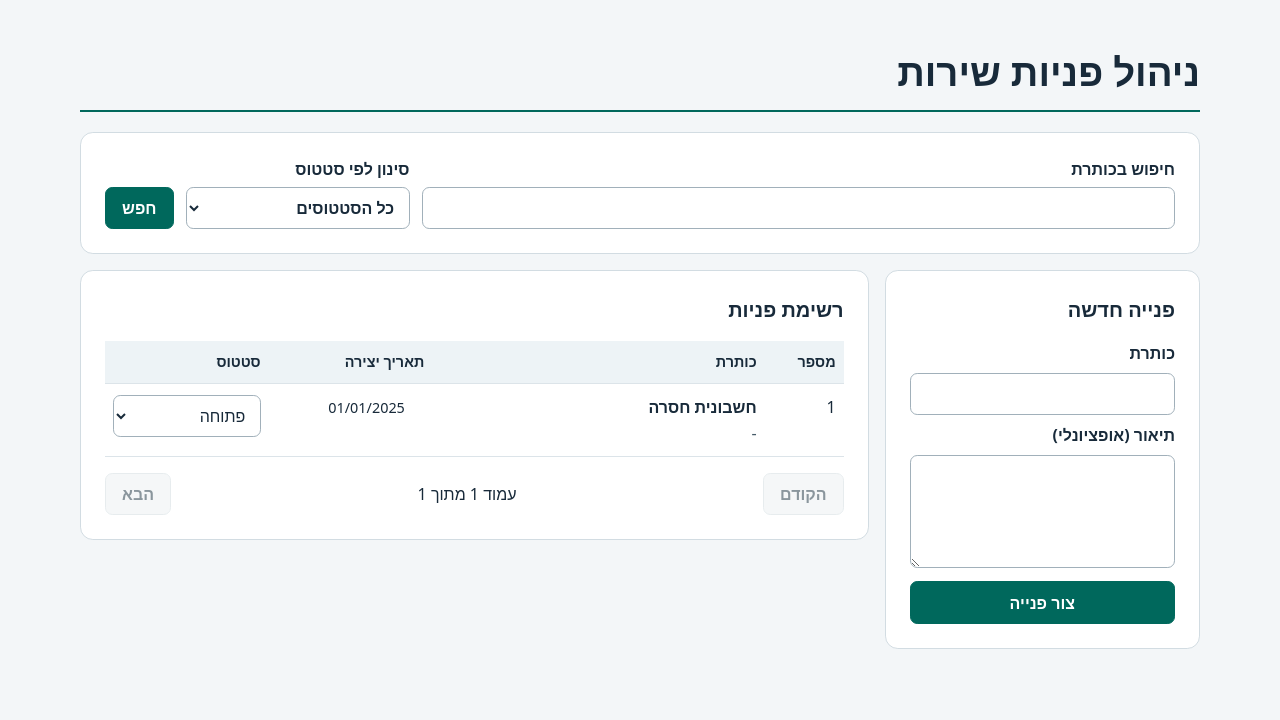
Test case: preserves both form fields when creation fails
Type "New ticket" into the field labelled "כותרת" at (1042, 394), box [910, 373, 1175, 416]
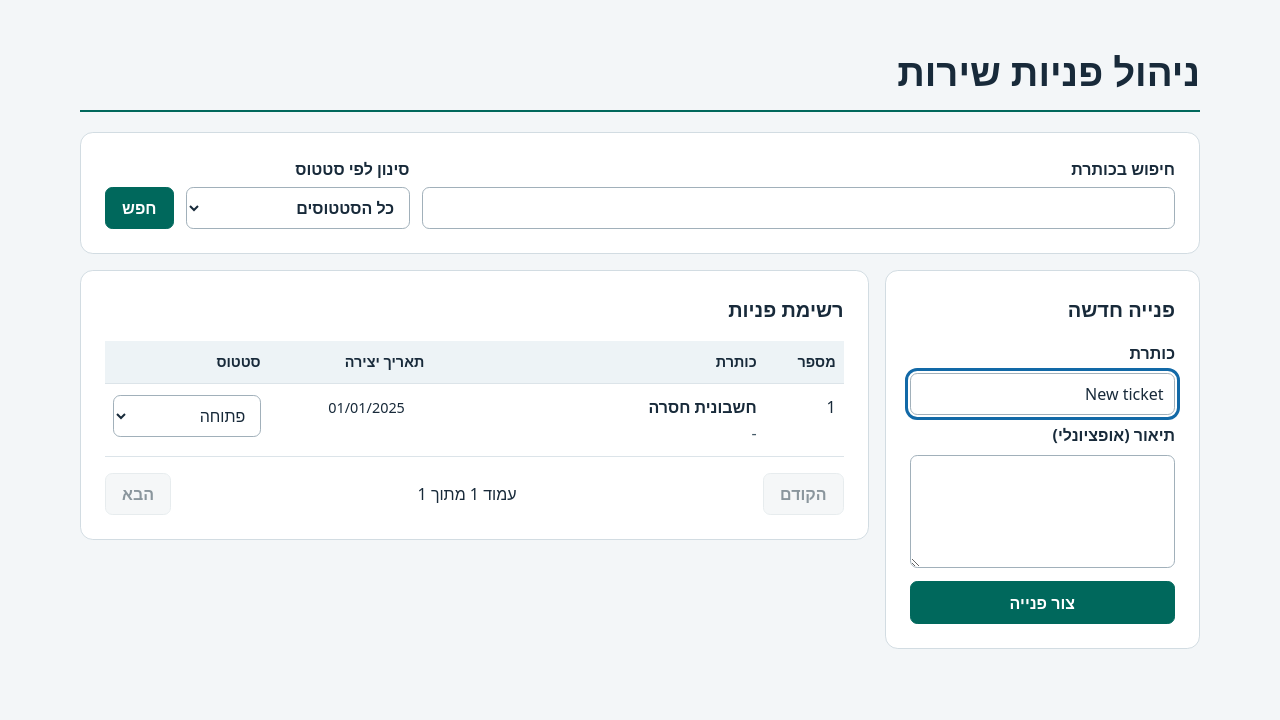
Type "Keep this note" into the text box labelled "תיאור (אופציונלי)" at (1042, 512), box [910, 456, 1175, 568]
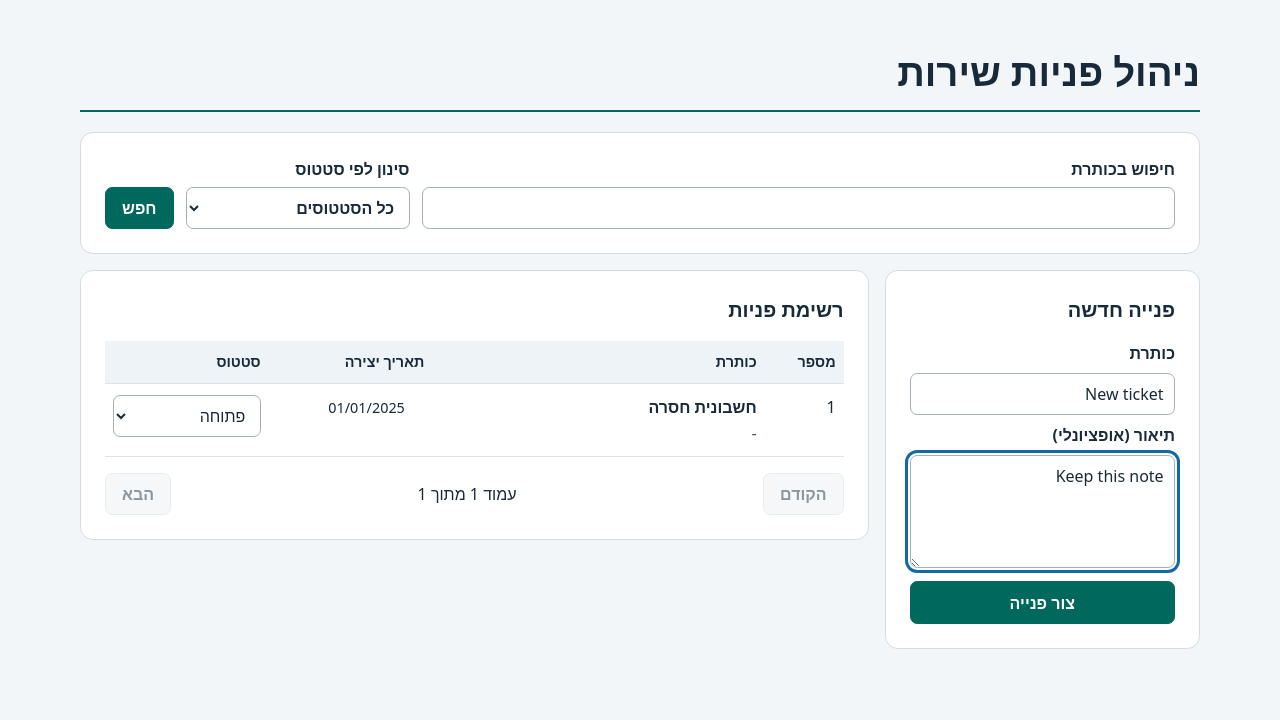
Click the button "צור פנייה" at (1042, 603), box [910, 581, 1175, 624]
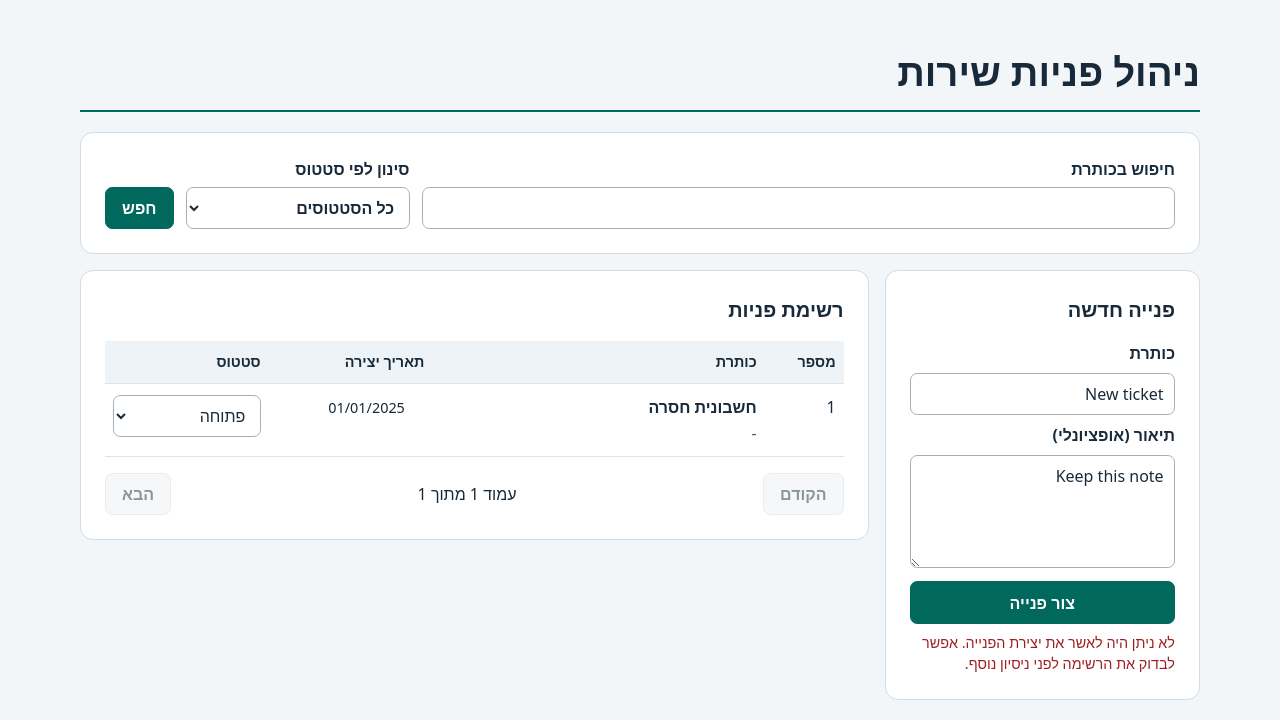
Expected: the message shows "לא ניתן היה לאשר", [922, 633, 1175, 673]
